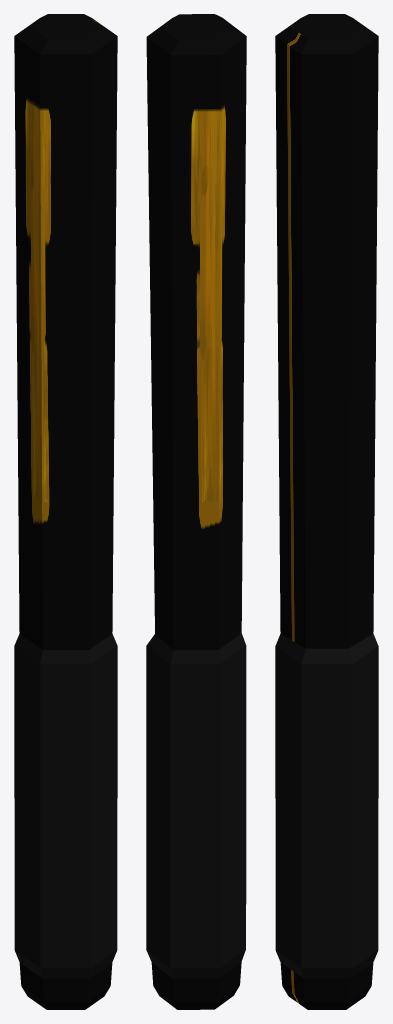
Rendered from obj_Pencil_003.obj.
3 views of the same model, side by side, from view 1: azimuth 90°, elevation 25°; view 2: azimuth 150°, elevation 25°; view 3: azimuth 270°, elevation 25° (orthographic).
Parts seen in each view (by area): view 1: obj_Pencil.003; view 2: obj_Pencil.003; view 3: obj_Pencil.003.
Part boxes in pixels (left/top/right/bottom): obj_Pencil.003: left=14, top=14, right=117, bottom=1009; obj_Pencil.003: left=146, top=14, right=246, bottom=1009; obj_Pencil.003: left=275, top=14, right=378, bottom=1009.
Size of the model in its own units: 0.0123 by 0.1519 by 0.0147.
